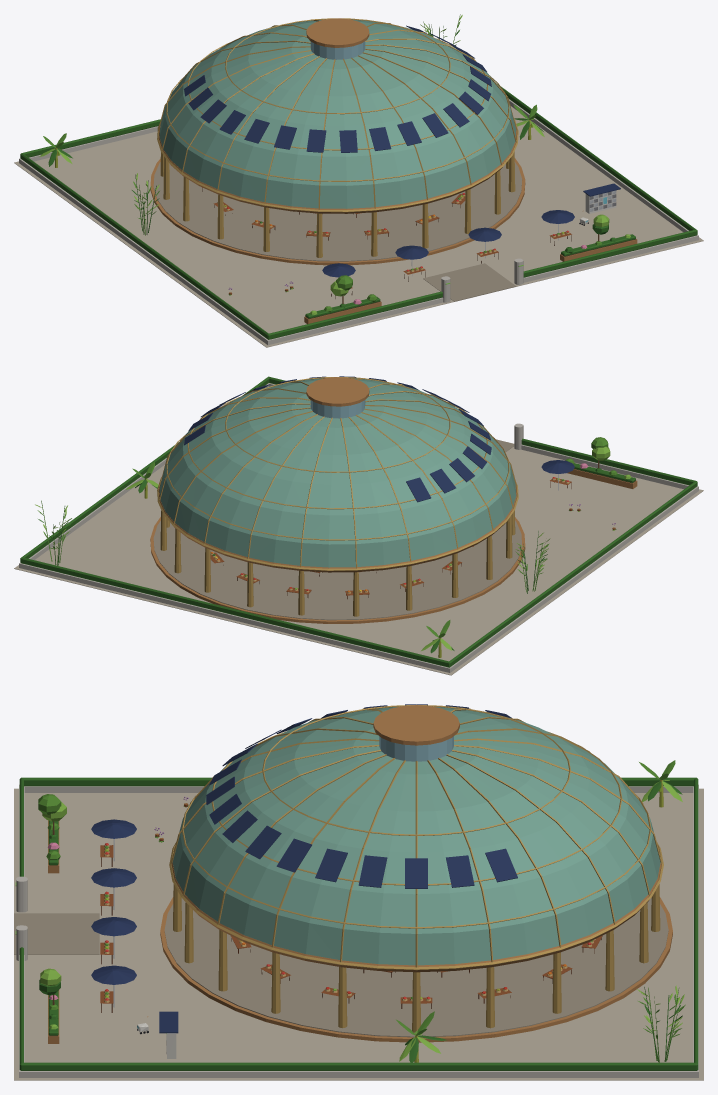
Rendered from market.glb.
3 views of the same model, one above another, from view 1: azimuth 30°, elevation 25°; view 2: azimuth 150°, elevation 25°; view 3: azimuth 270°, elevation 25° (orthographic). The views are drawn at different scales.
Visible parts, largest first — view 1: body; view 2: body; view 3: body.
Boxes of the visible parts, x1,y1,x2,y2 form: body: (14, 14, 703, 347); body: (14, 376, 703, 675); body: (14, 704, 703, 1080).
Size of the model in its own units: 47.9 by 16.39 by 47.9.
